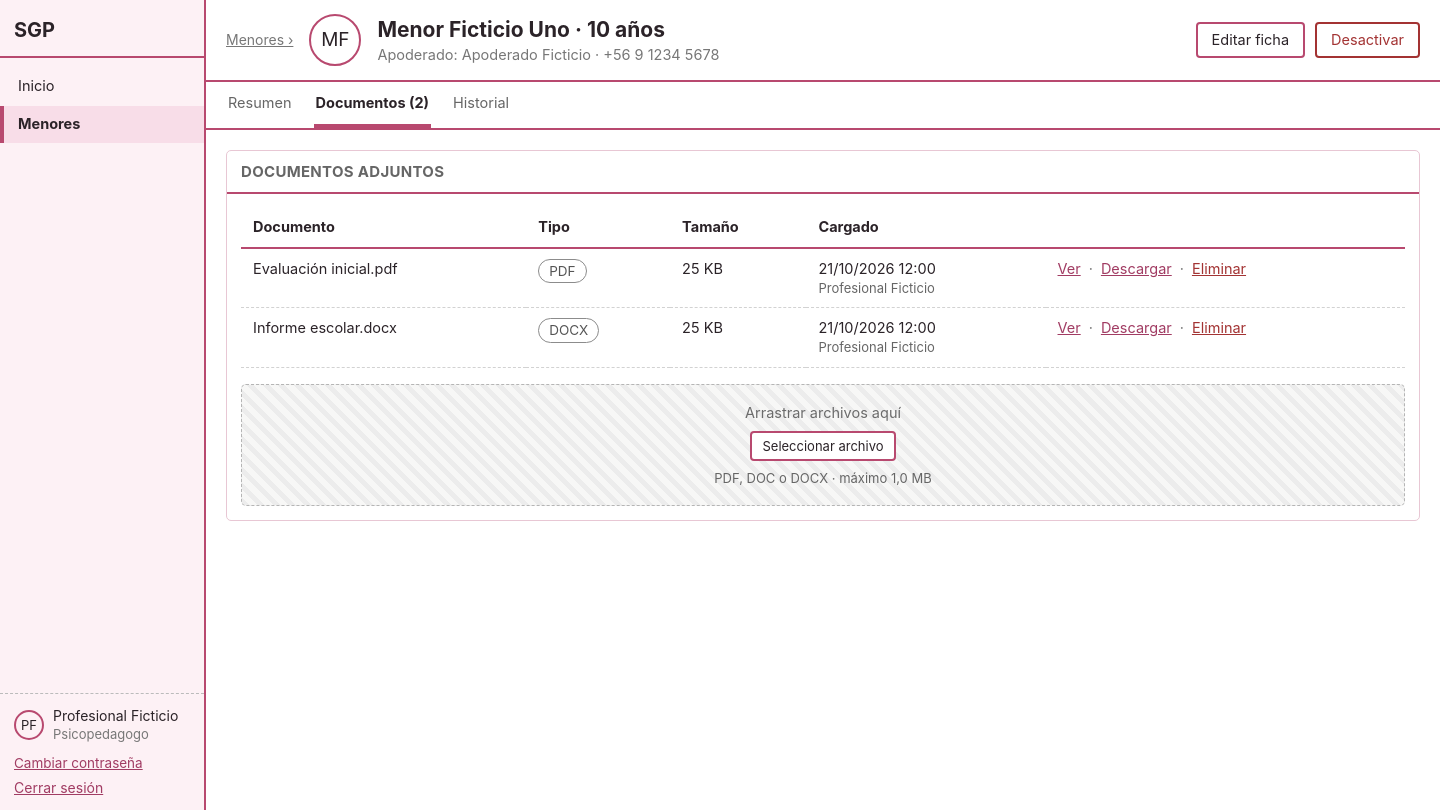
it: Eliminación con confirmación dentro de la aplicación › confirmar elimina una sola vez y muestra el resultado
The image size is (1440, 810).
Check: the tab "Documentos (2)" is shown, box [314,82,431,128]
Click the button with aria-label "Eliminar Evaluación inicial.pdf": (1219, 269) [1192,259,1246,279]
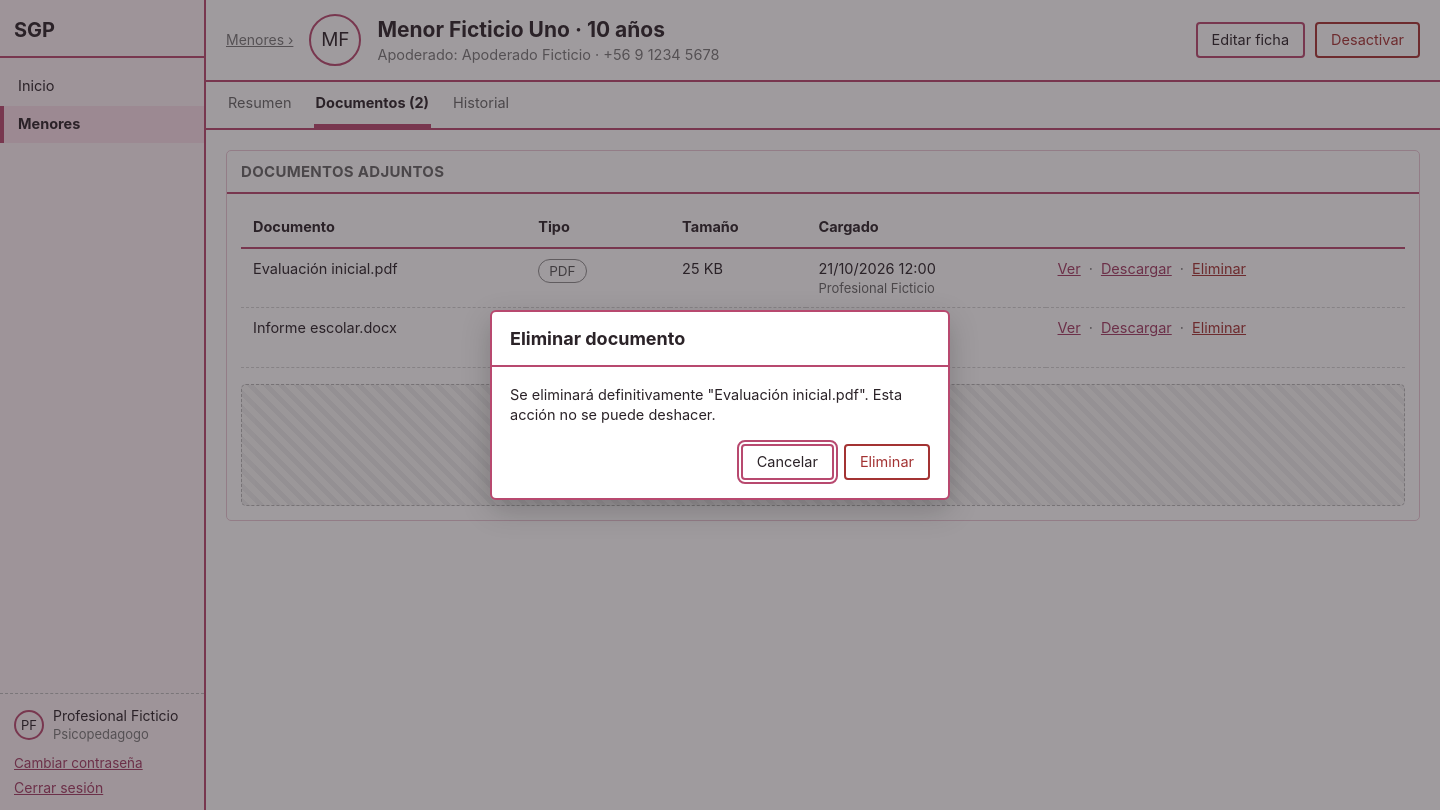
Click the button "Eliminar": (887, 462) [844,444,930,480]
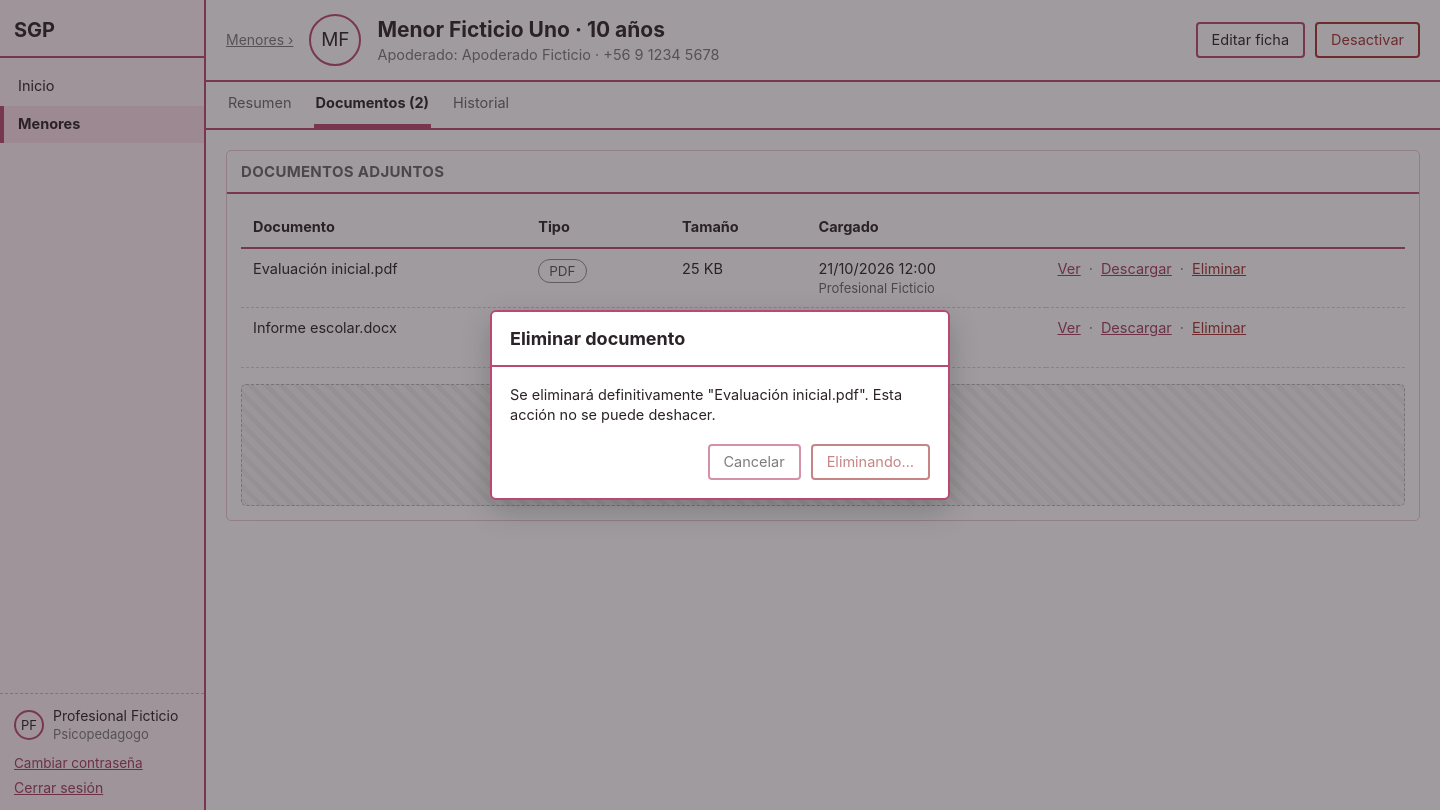
Check: the button "Eliminando…" is disabled
Click the button "Eliminando…": (870, 462) [811,444,930,480]
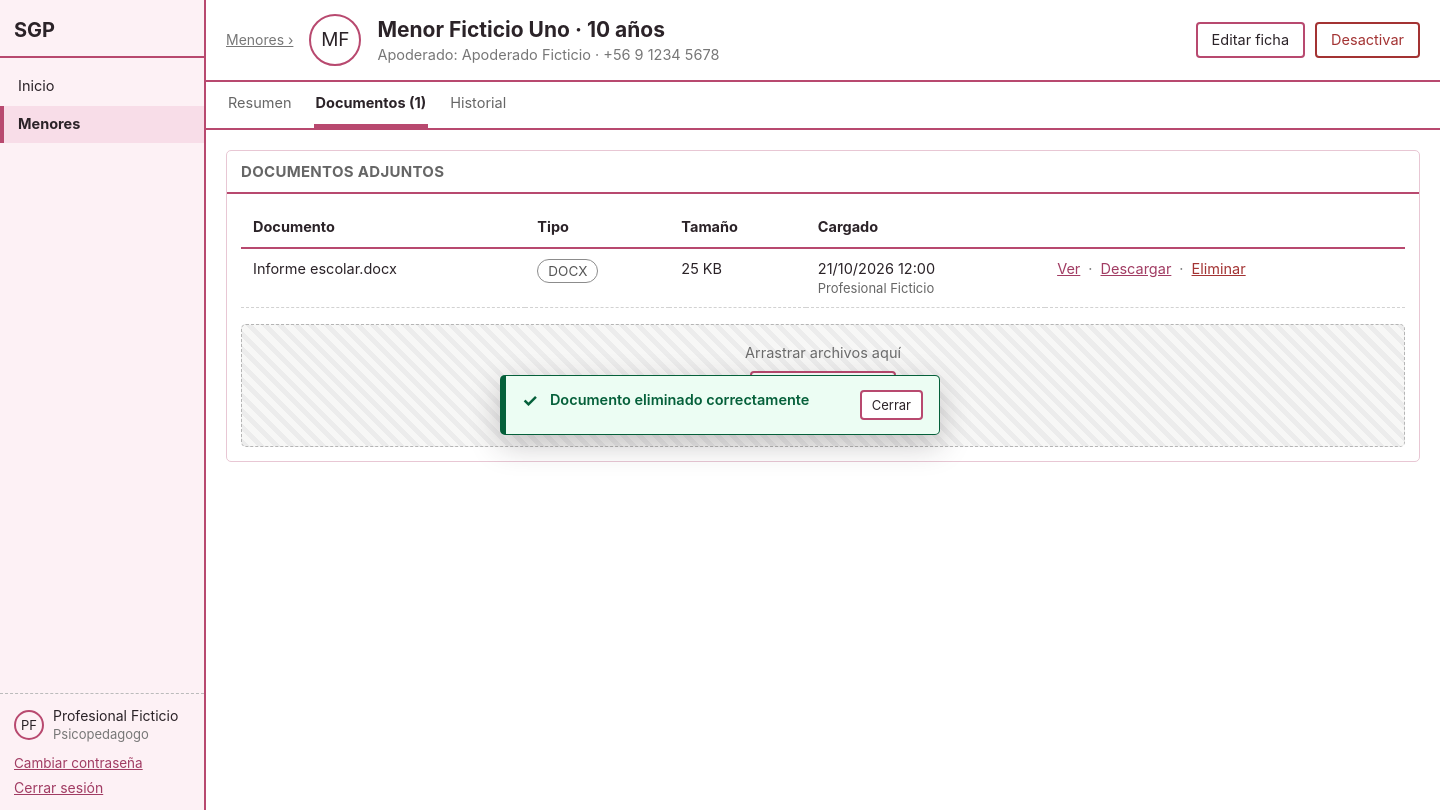
Check: the text "Documento eliminado correctamente" is shown, box [550,390,848,410]
Check: the dialog is gone
Check: the cell "Evaluación inicial.pdf" is gone
